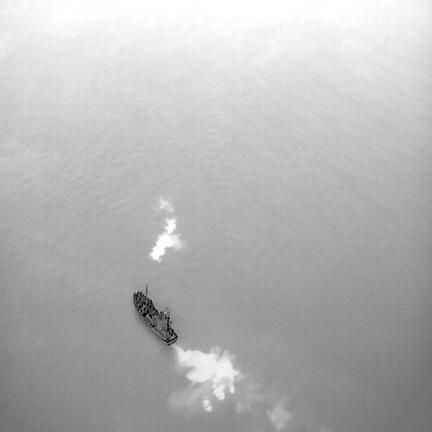flukeprints: (150, 232, 179, 261), (159, 197, 172, 211), (165, 219, 176, 235)
